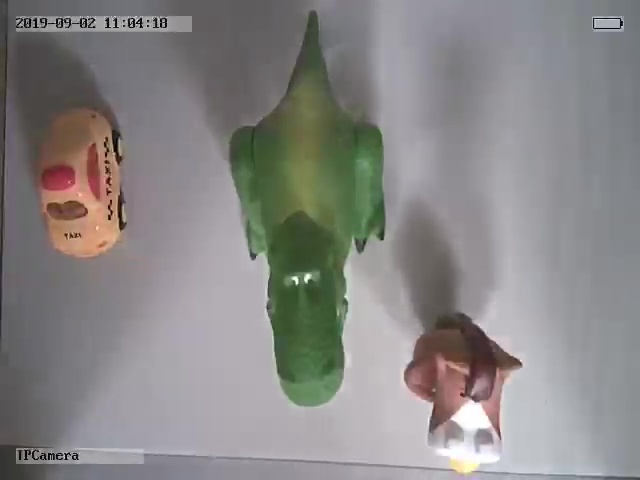car: (38, 107, 130, 256)
horse: (400, 312, 524, 474)
rex: (228, 12, 387, 406)
